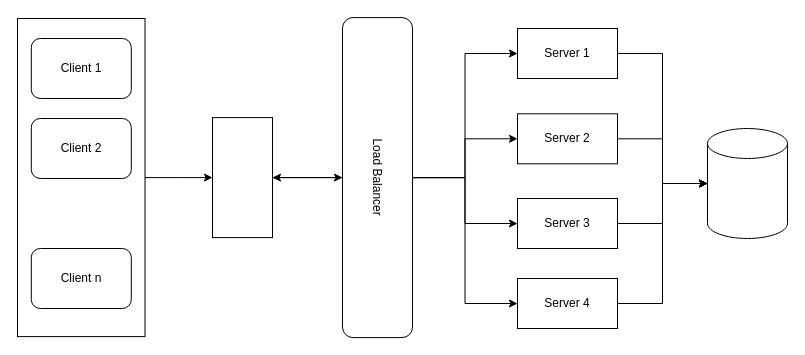
The diagram is 805 pixels wide and 355 high, and some of its shapes have lost their labels. The centre of each missing label's shape, as x and y in pixels:
Database: pixel 747 183
Synchronization: pixel 242 177
